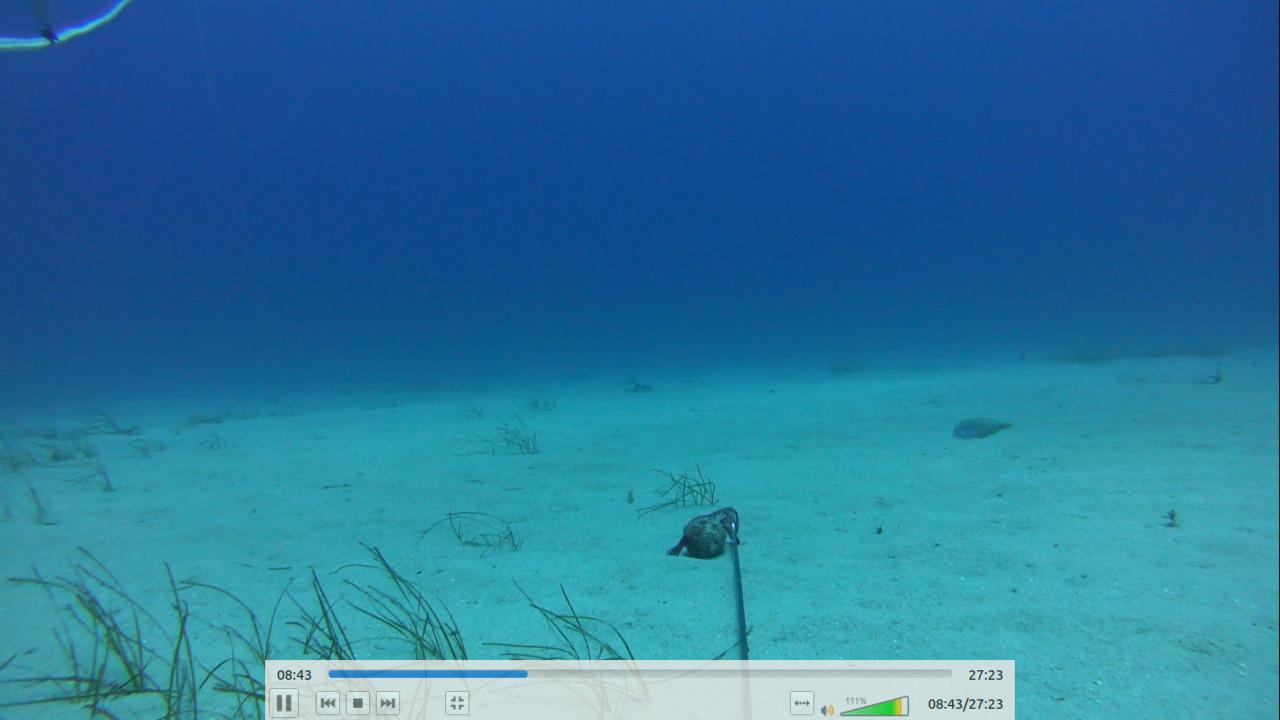raor: (946, 414, 1016, 441)
